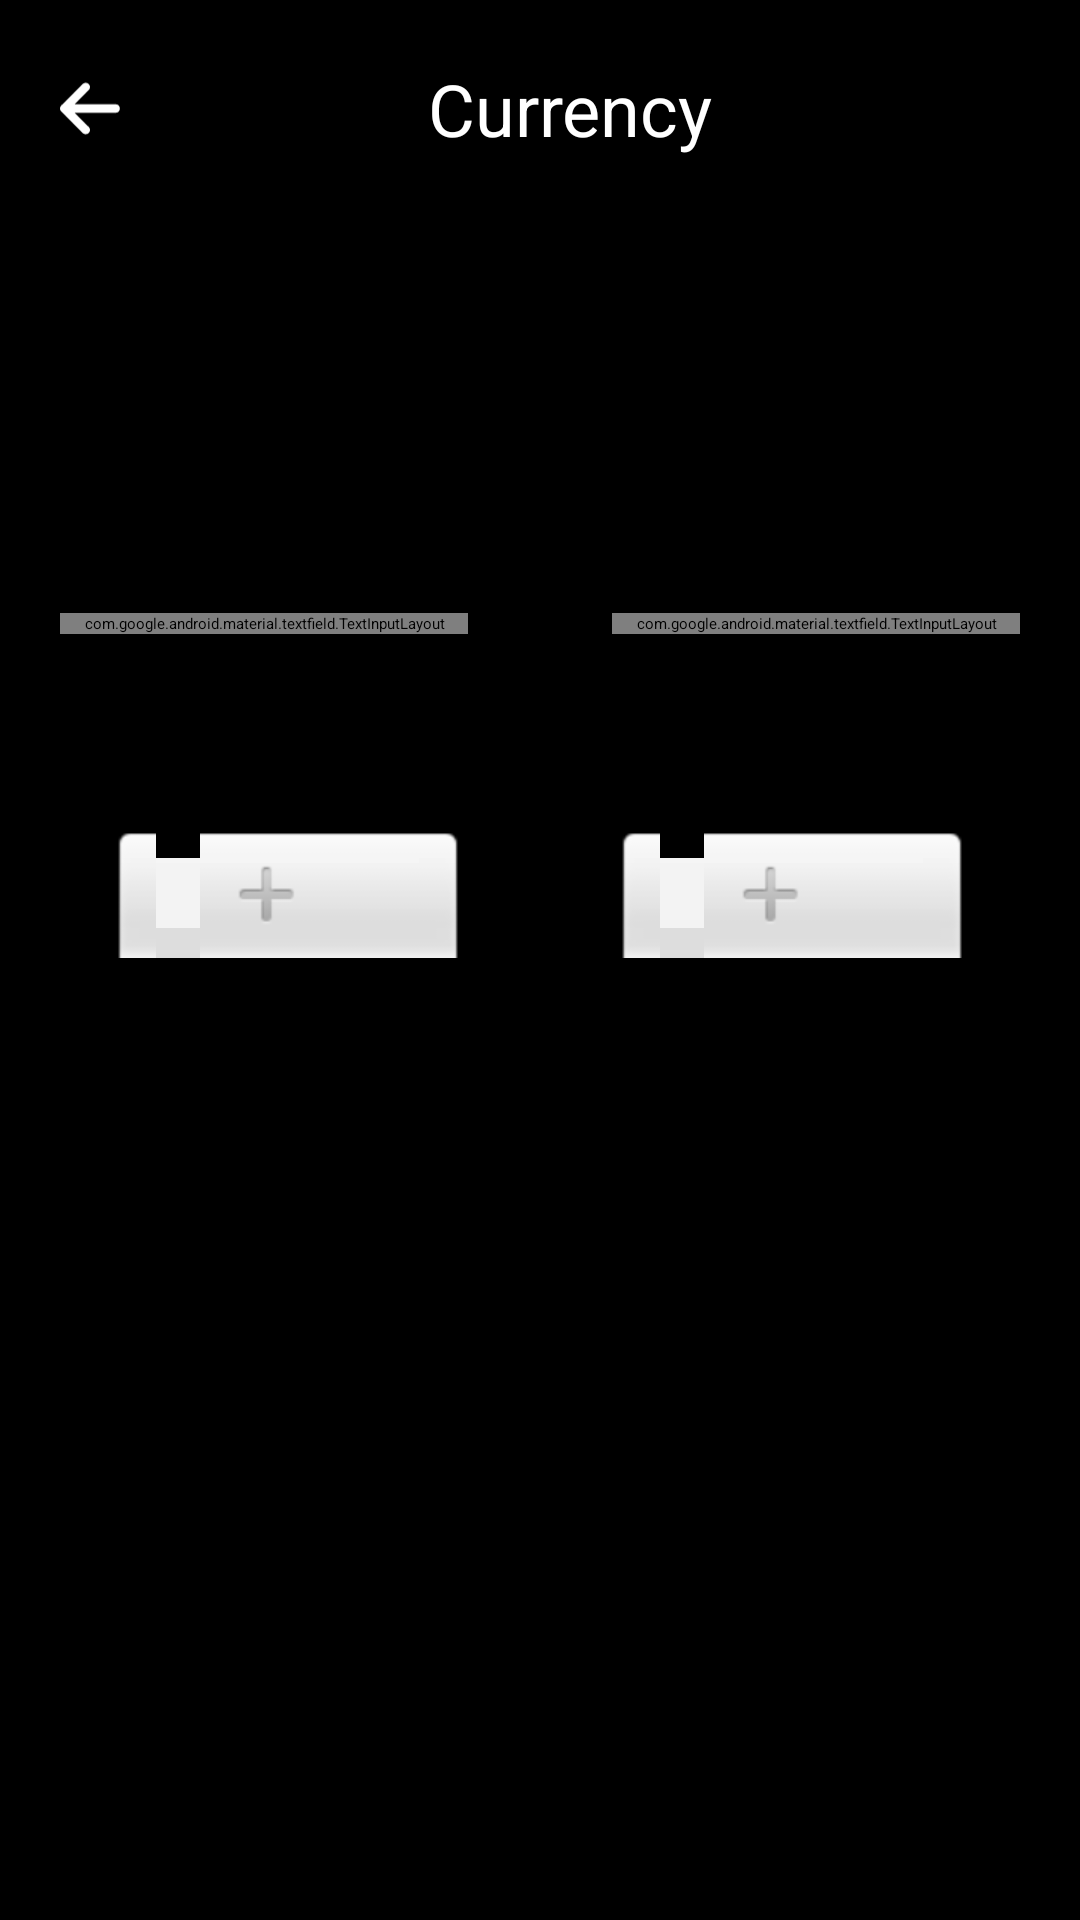

Icons on this 1080 × 1920 Android screen, each with its box as (x1, y1, x2, y2):
back: (60, 82, 120, 135)
